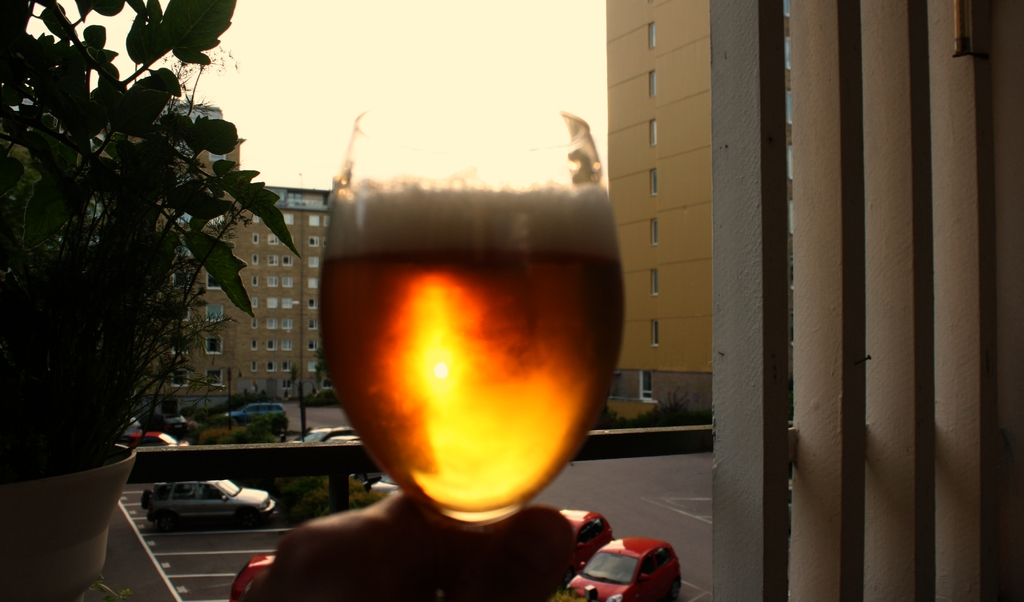Beer: (305, 67, 646, 552)
